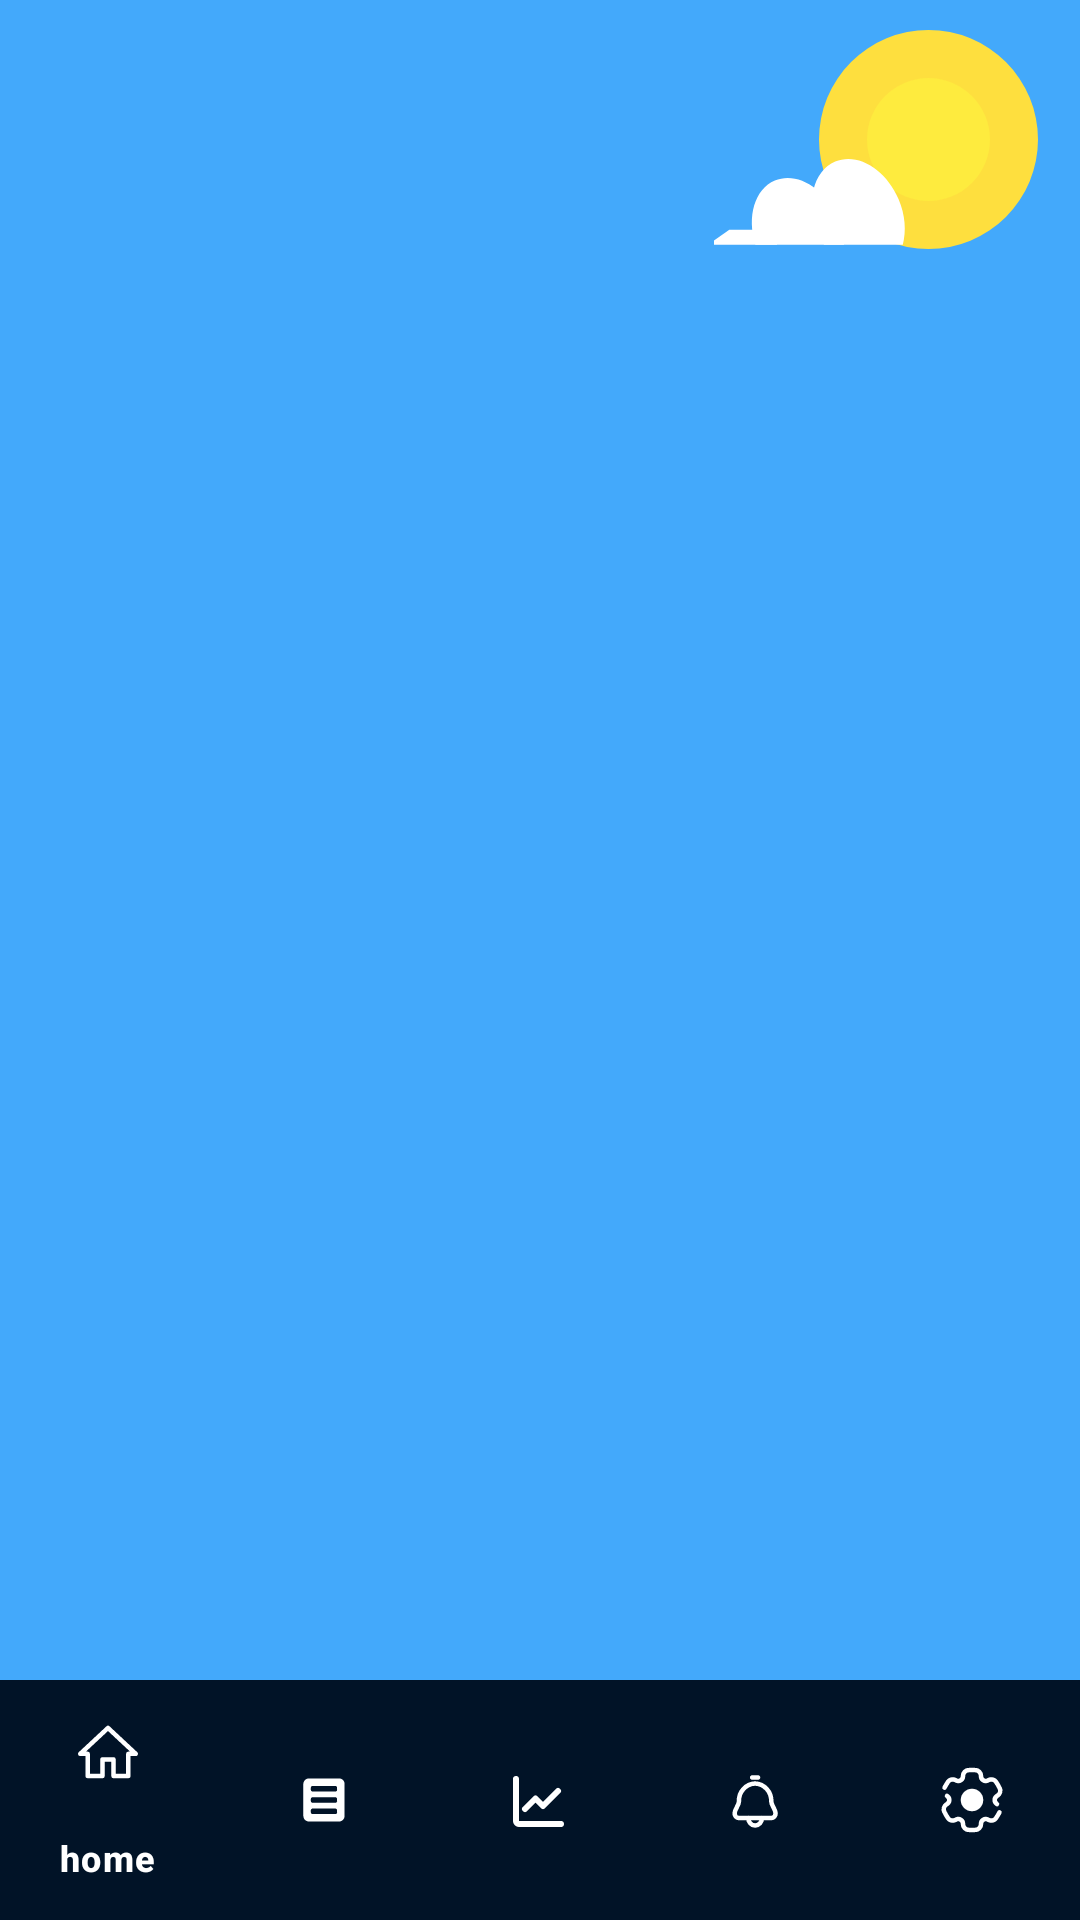

Icons on this 1080 x 1920 Android screen, each with its box as region(x1, y1, x2, y2):
sun: region(714, 30, 1038, 249)
